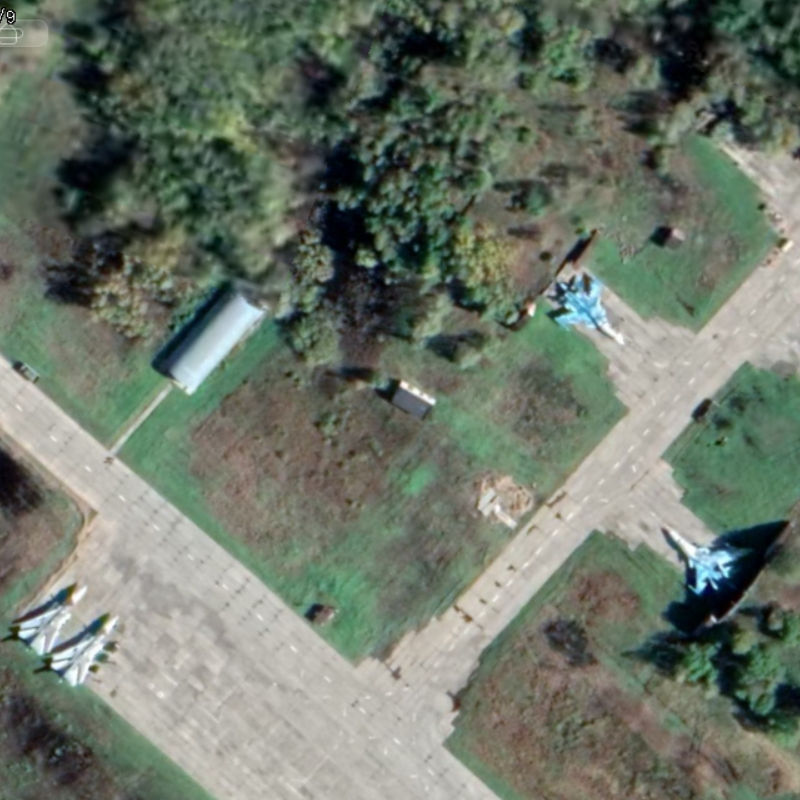A19: (667, 528, 747, 600), (552, 273, 628, 348)
A20: (15, 583, 90, 658), (48, 613, 122, 689)
